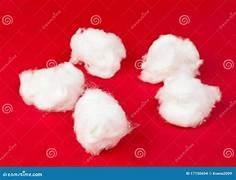cotton: (19, 28, 131, 154), (19, 28, 130, 154), (140, 34, 220, 126), (73, 89, 129, 154), (156, 75, 220, 126), (19, 62, 83, 111), (140, 34, 201, 83), (70, 28, 125, 78)
